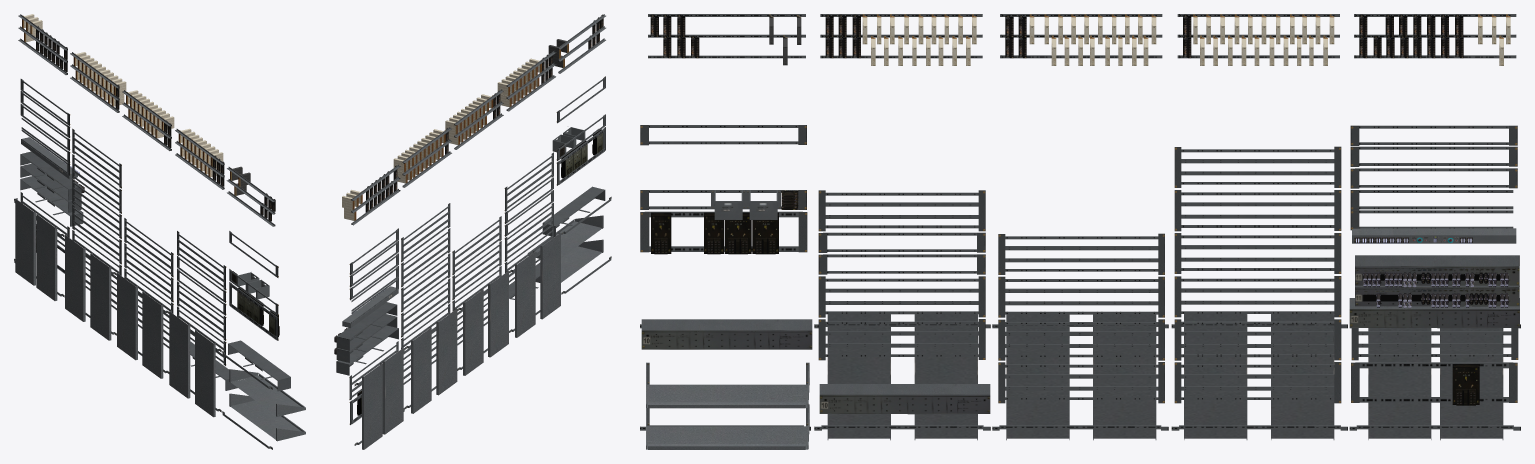
File: stativ_relay_221_Piece.fbx
3 views of the same model, side by side, from view 1: azimuth 30°, elevation 25°; view 2: azimuth 150°, elevation 25°; view 3: azimuth 270°, elevation 25° (orthographic). The views are drawn at different scales.
Parts seen in each view (by area): view 1: stativ_relay_221; view 2: stativ_relay_221; view 3: stativ_relay_221.
Part boxes in pixels (left/top/right/bottom): stativ_relay_221: left=14, top=14, right=305, bottom=449; stativ_relay_221: left=334, top=14, right=611, bottom=449; stativ_relay_221: left=640, top=14, right=1520, bottom=449.
Bounding box in the file's own units: 0.0394 × 0.2415 × 0.4467.
